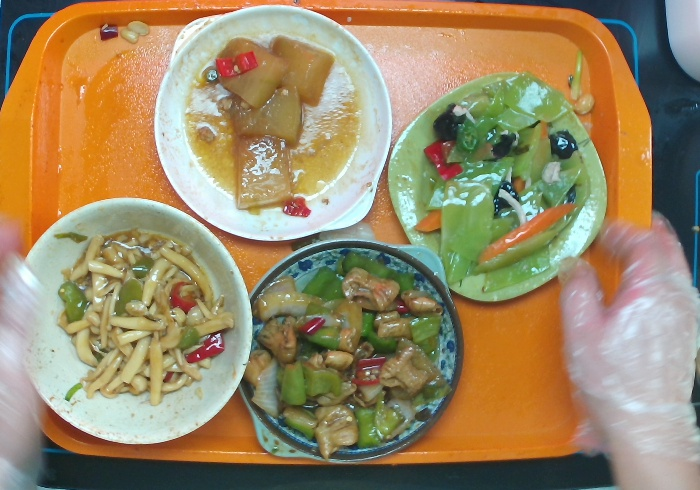NLDX-Bai_Se_Shuang_Er_Die: (150, 2, 393, 244)
NLDX-Bai_Se_Yuan_Wan: (19, 193, 255, 448)
NLDX-Lv_Hua_Fang_Die: (386, 68, 610, 304)
NLDX-Qing_Hua_Shuang_Er_Die: (236, 237, 467, 465)
